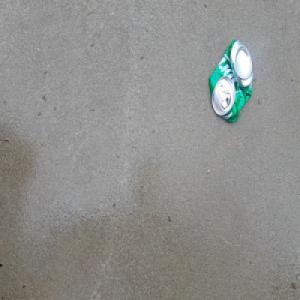SodaCan: (208, 37, 254, 124)
